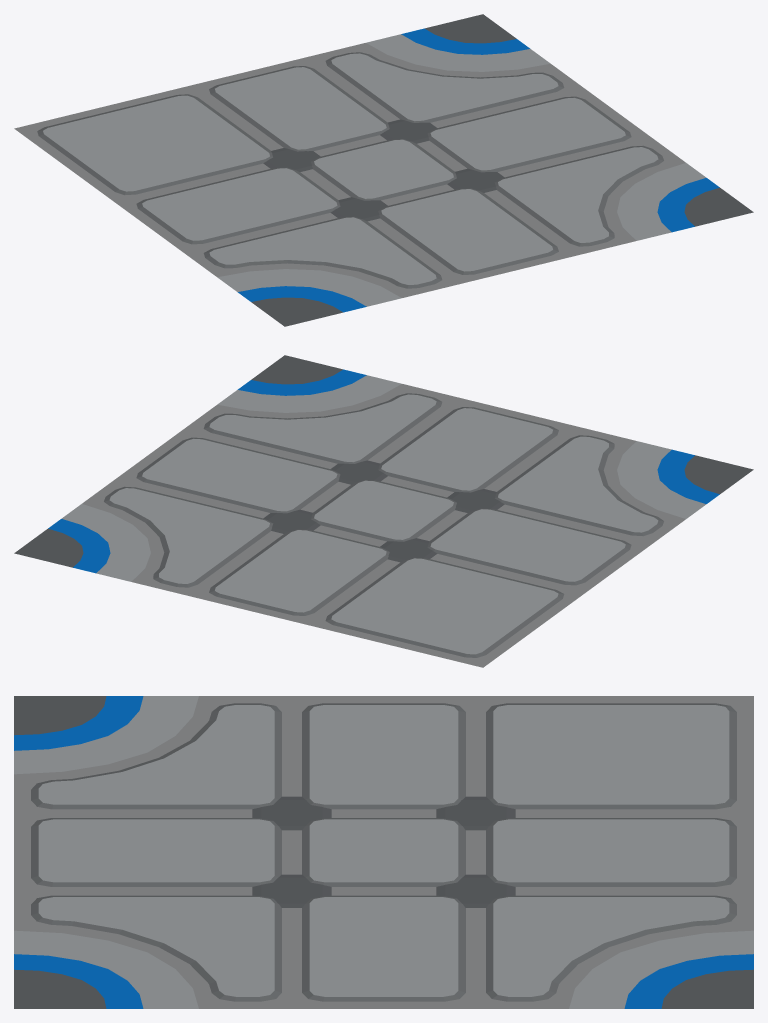
The model's file is Floor_type_B_023.fbx.
The picture shows the model from 3 angles, top to bottom: view 1: azimuth 30°, elevation 25°; view 2: azimuth 150°, elevation 25°; view 3: azimuth 270°, elevation 25°; orthographic projection. The views are drawn at different scales.
Visible parts, largest first — view 1: Floor_type_B_023; view 2: Floor_type_B_023; view 3: Floor_type_B_023.
Part boxes in pixels (x1,y1,x2,y2): Floor_type_B_023: [14, 14, 753, 326]; Floor_type_B_023: [14, 355, 753, 667]; Floor_type_B_023: [14, 696, 753, 1008].
Size of the model in its own units: 400 by 400 by 1.34.
